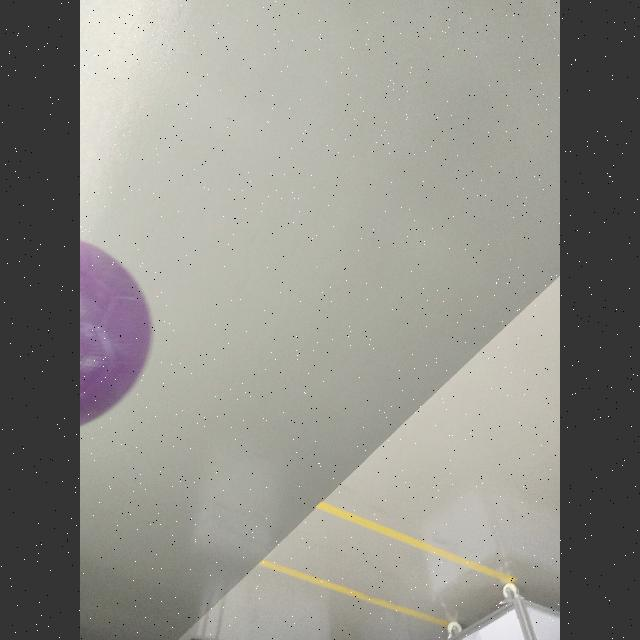P: (80, 240, 154, 426)
